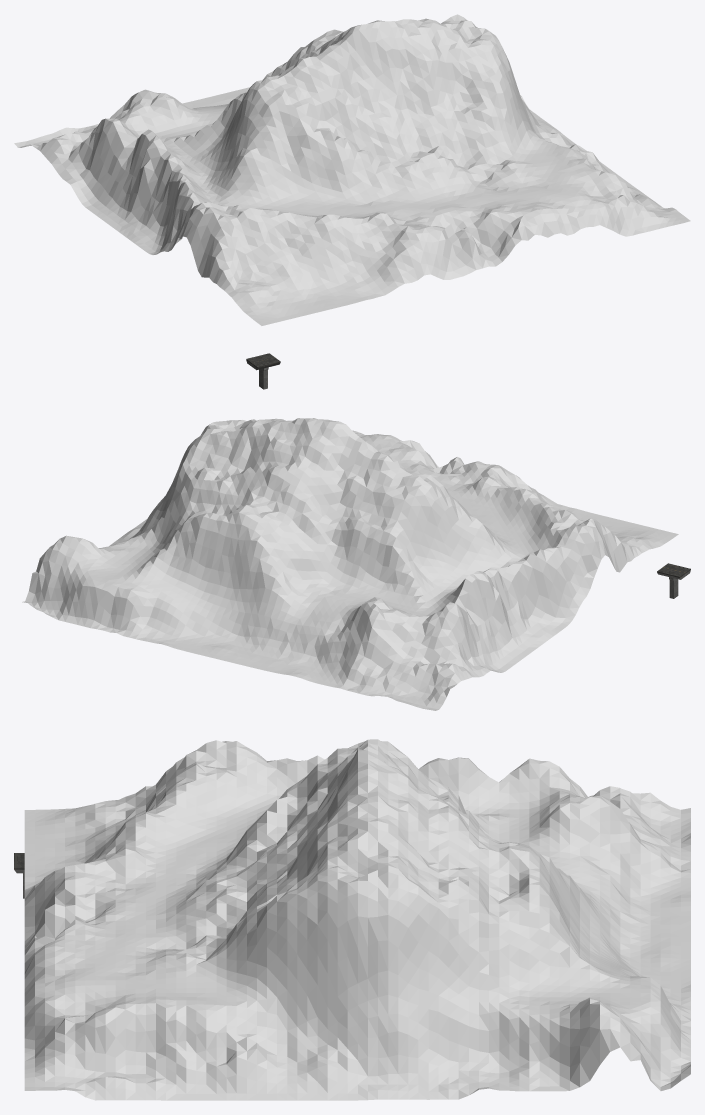
File: cartmap.gltf
3 renders of one model, top to bottom at view 1: azimuth 30°, elevation 25°; view 2: azimuth 150°, elevation 25°; view 3: azimuth 270°, elevation 25°, orthographic. The views are drawn at different scales.
Visible parts, largest first — view 1: map3dmesh; view 2: map3dmesh, mesh; view 3: map3dmesh.
Part boxes in pixels (box(x1,y1,x2,y2)): map3dmesh: box(14, 14, 690, 325); map3dmesh: box(22, 418, 678, 710); mesh: box(657, 563, 690, 598); map3dmesh: box(24, 739, 690, 1100).
Bounding box in the file's own units: 30.58 × 14.41 × 30.48.
Materials: 1 (1 with a texture image).
